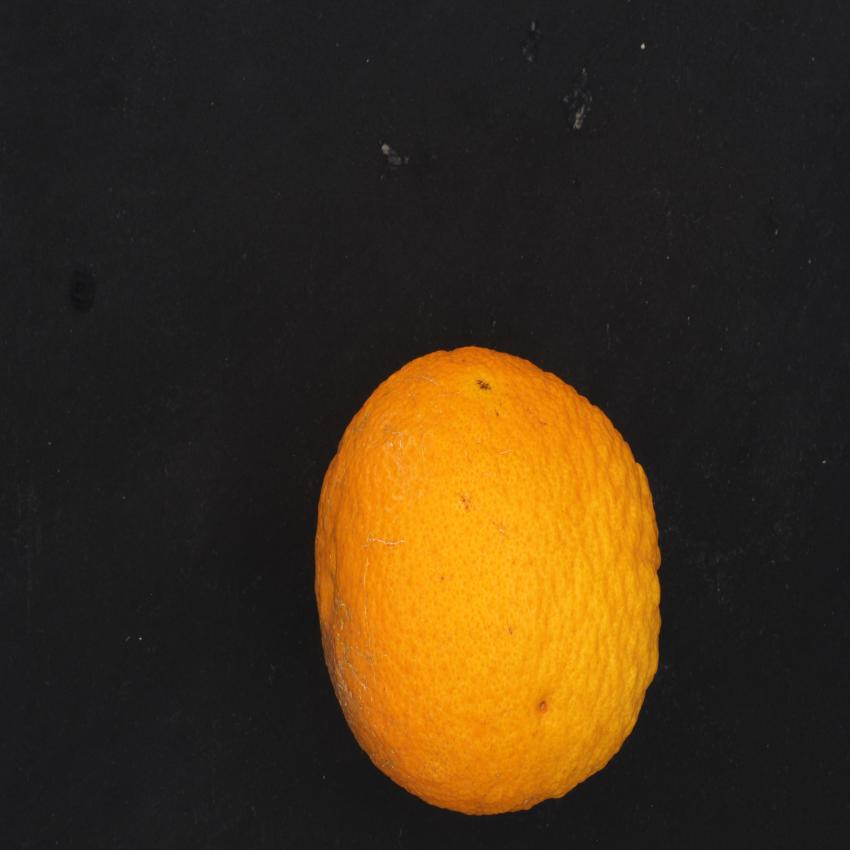Mal estado: (297, 338, 676, 825)
